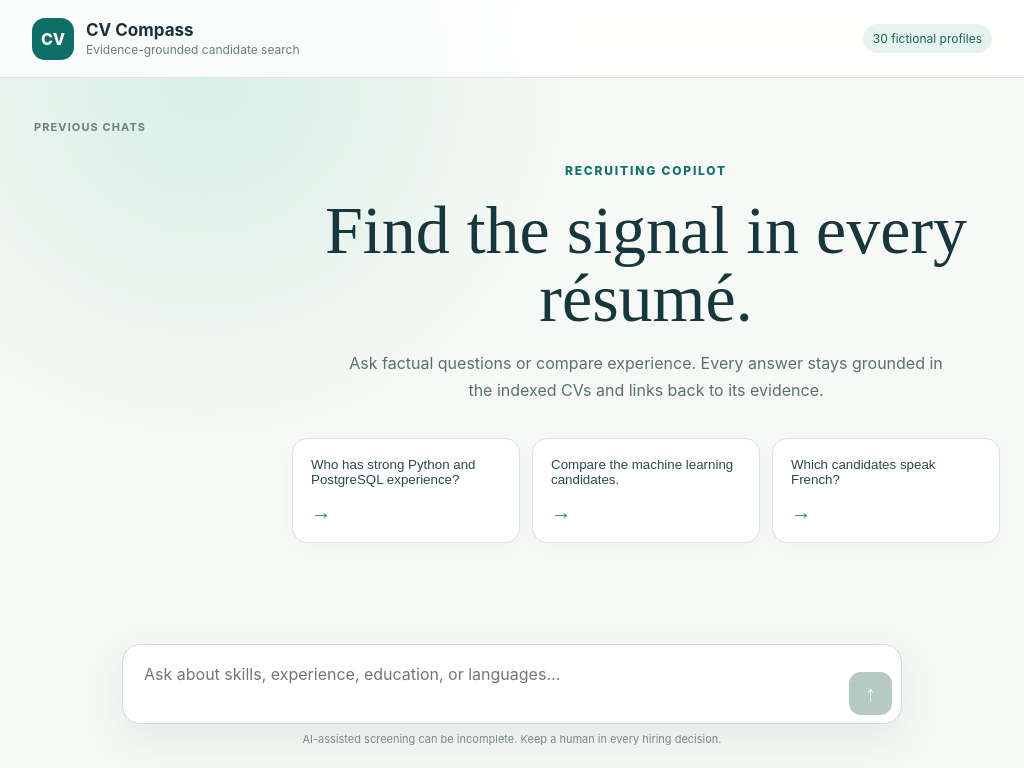
Scenario: shows chat navigation only after a chat is started
In the text box named "Ask about the candidates": (494, 684) [140,653,849,715], type "Who knows Python?"
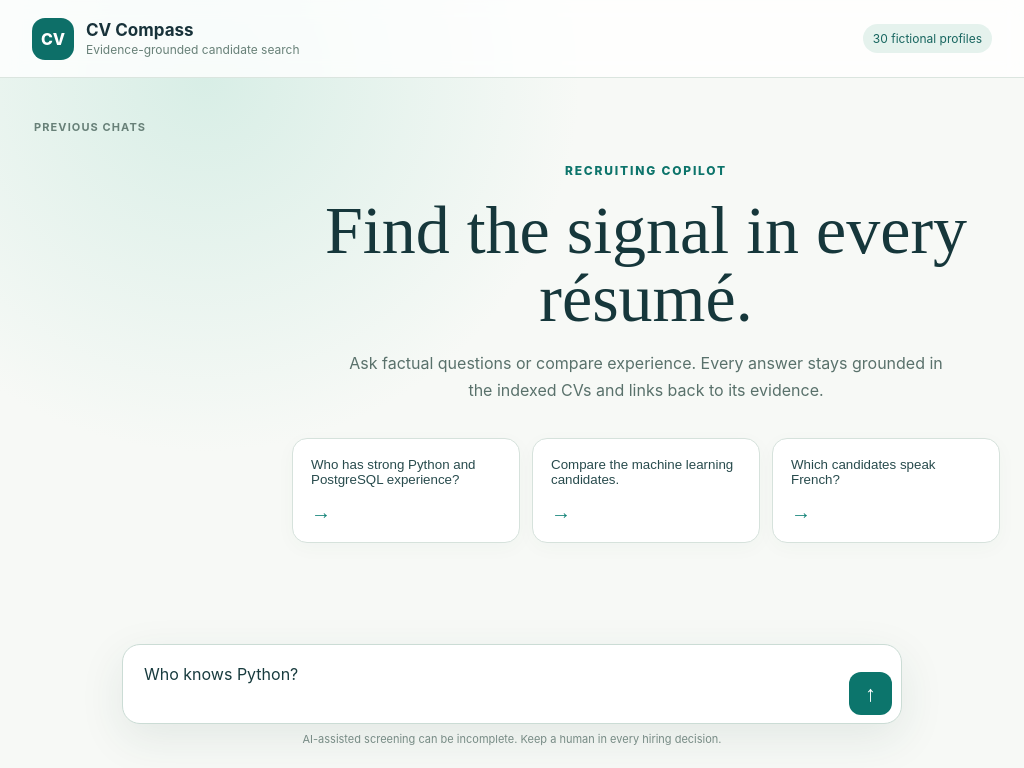
Click the button named "Send question": (870, 694) [849,672,892,715]
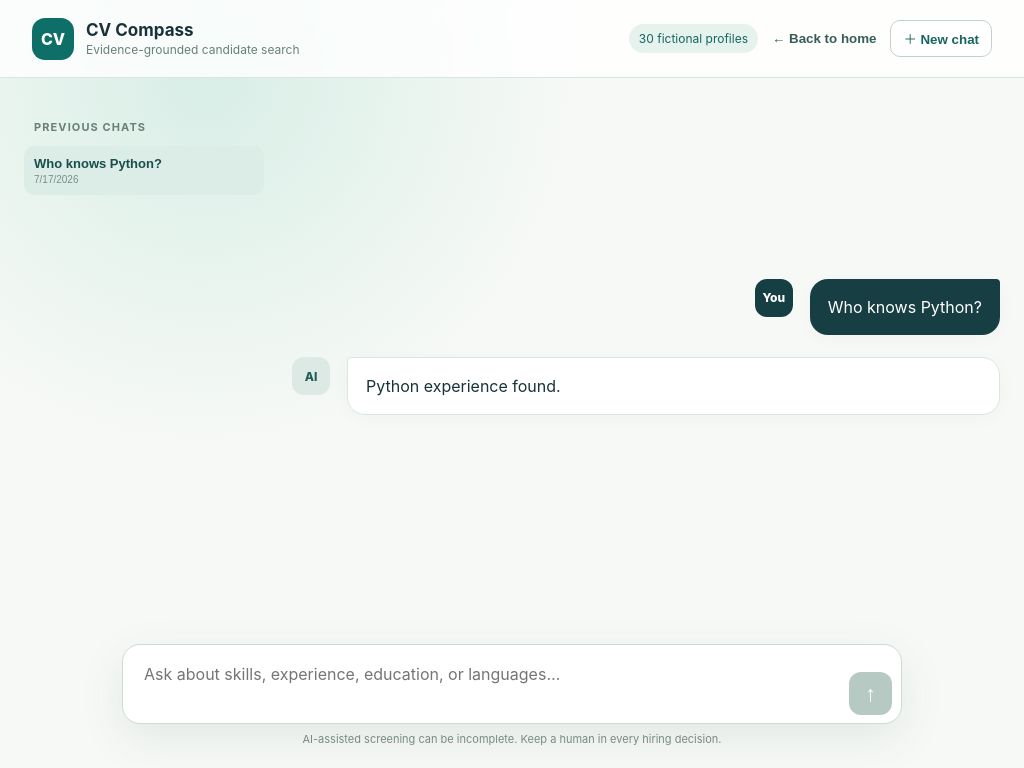
expect the button "＋ New chat" is shown: met, box [890,20,992,57]
expect the button "← Back to home" is shown: met, box [768,23,880,54]
